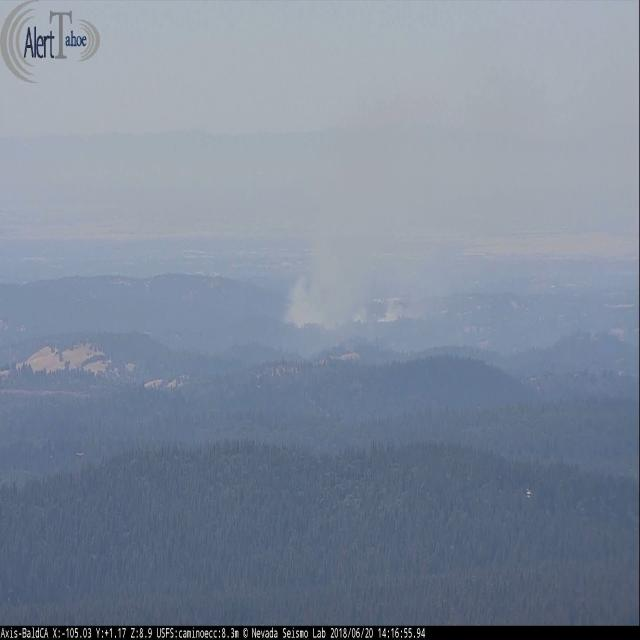smoke: (283, 252, 402, 325)
